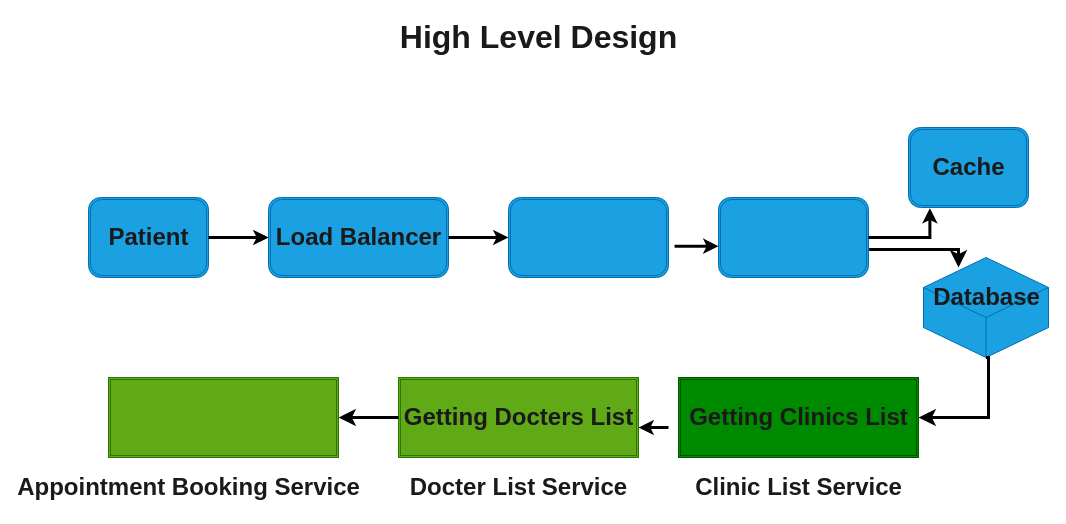
Some shapes in this 1066 by 524 pixel diagram are drawn without their labels. Here are the shapes that lost their labels. From the top down, the box of each, then its label:
(508, 196, 668, 278): Web Server
(718, 196, 868, 278): App Server
(108, 376, 338, 458): Book Appointment
